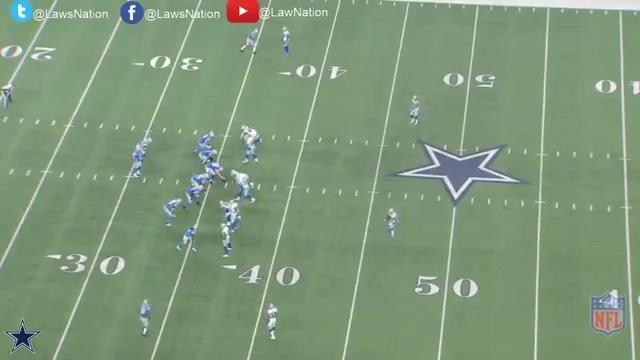player: (231, 172, 257, 206), (136, 296, 155, 339), (382, 206, 401, 245), (162, 197, 185, 229), (241, 129, 260, 166), (179, 184, 207, 209), (178, 226, 201, 256), (264, 302, 281, 342), (218, 199, 243, 226), (204, 160, 228, 187), (218, 220, 234, 259), (408, 95, 425, 130), (129, 144, 146, 179), (239, 28, 260, 56), (191, 130, 214, 155), (190, 171, 215, 193), (229, 169, 256, 189), (239, 124, 263, 146), (279, 27, 293, 61), (200, 147, 219, 171), (136, 135, 154, 160), (228, 200, 241, 233)
ref: (0, 80, 17, 111)
